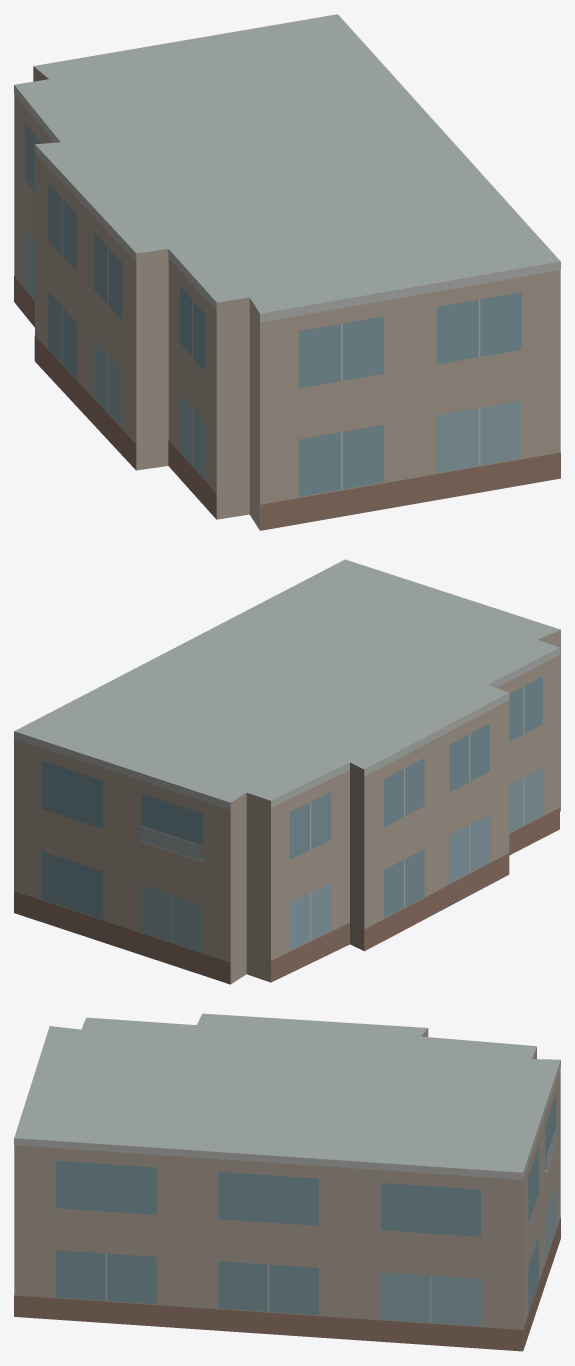
The model's file is survey-upis-32675979.glb.
3 renders of one model, top to bottom at view 1: azimuth 30°, elevation 25°; view 2: azimuth 150°, elevation 25°; view 3: azimuth 270°, elevation 25°, orthographic. The views are drawn at different scales.
Parts seen in each view (by area): view 1: survey-upis-32675979.tmp; view 2: survey-upis-32675979.tmp; view 3: survey-upis-32675979.tmp.
Part boxes in pixels (left/top/right/bottom): survey-upis-32675979.tmp: left=14, top=14, right=560, bottom=530; survey-upis-32675979.tmp: left=14, top=559, right=560, bottom=984; survey-upis-32675979.tmp: left=14, top=1013, right=560, bottom=1351.
Bounding box in the file's own units: 11.67 × 6.1 × 16.93.
